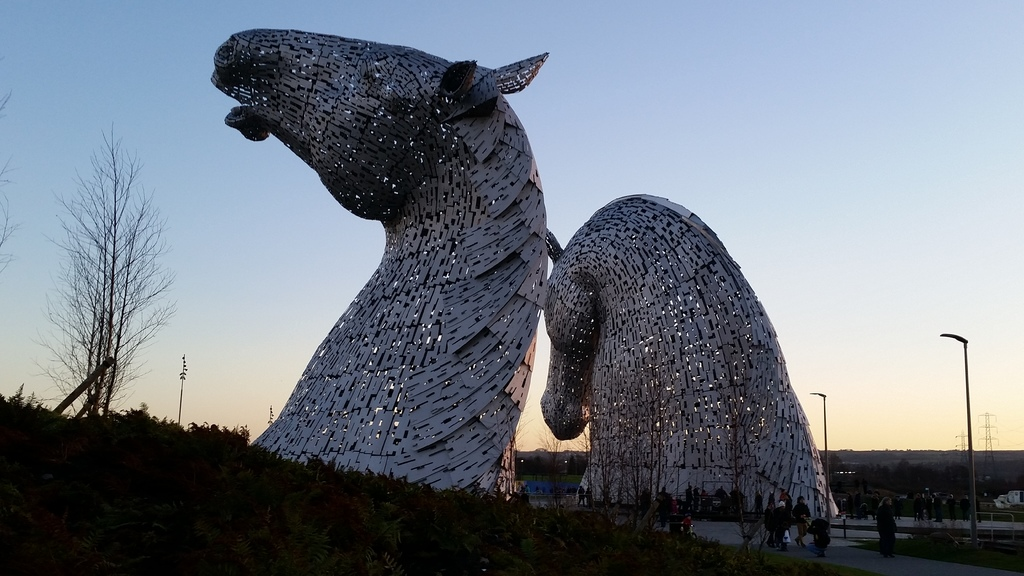Animal: (240, 25, 547, 491), (541, 189, 849, 513)
